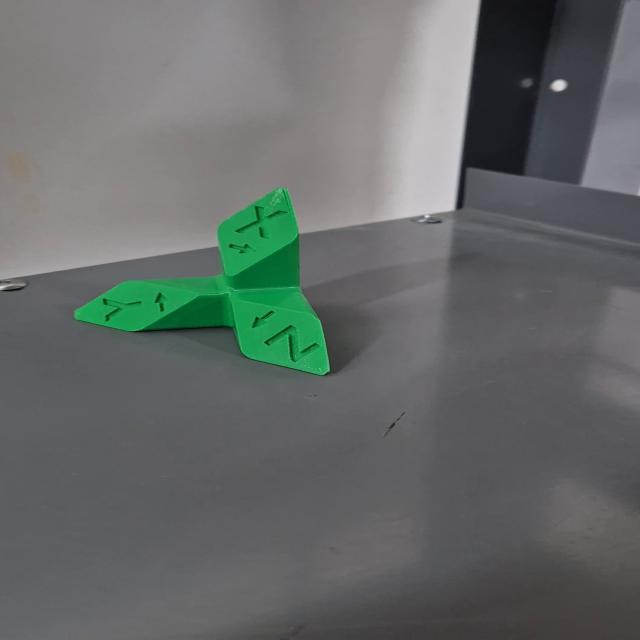objects: (65, 184, 340, 382)
